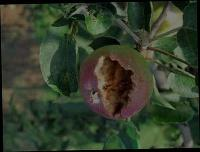rotten apple: (79, 45, 159, 121)
